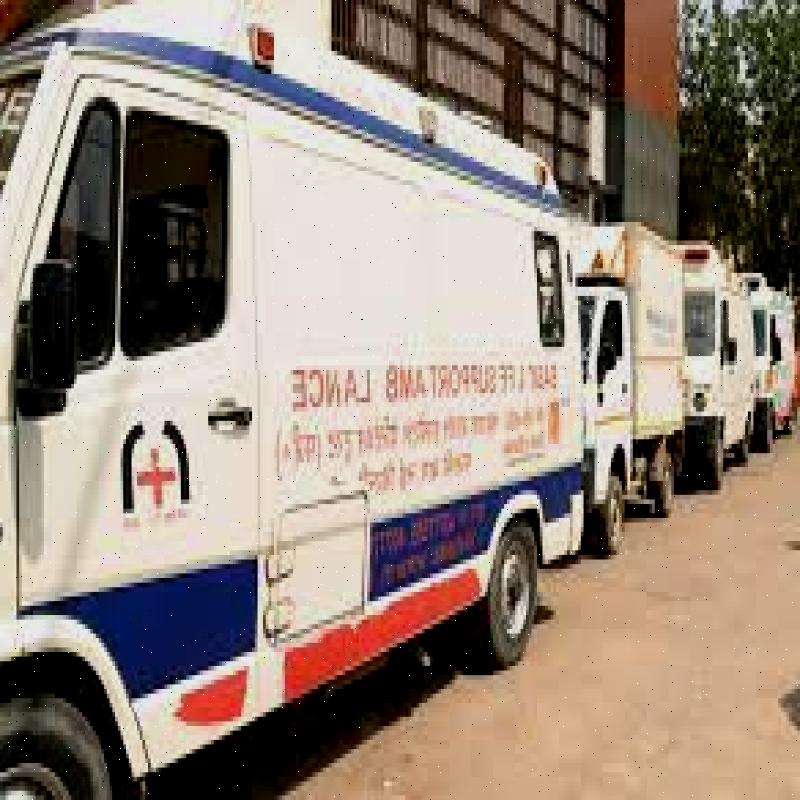ambulance: (0, 157, 566, 800)
